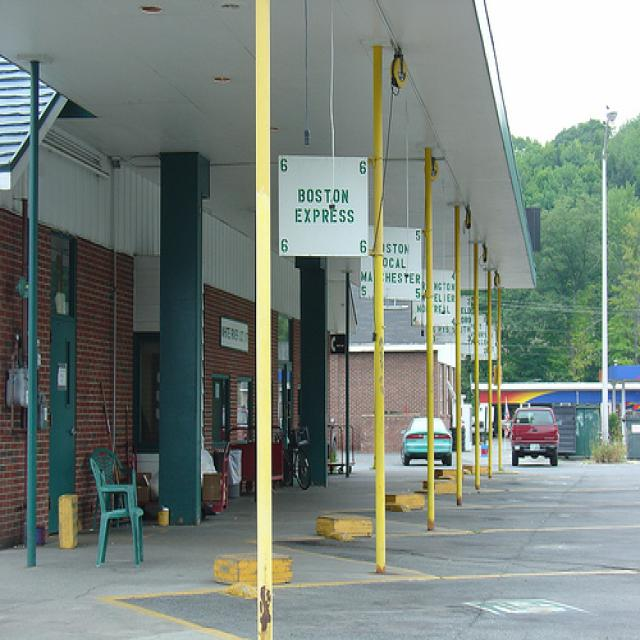bicycle: (274, 426, 313, 491)
car: (509, 406, 563, 471), (400, 411, 453, 465)
chair: (87, 445, 144, 569)
